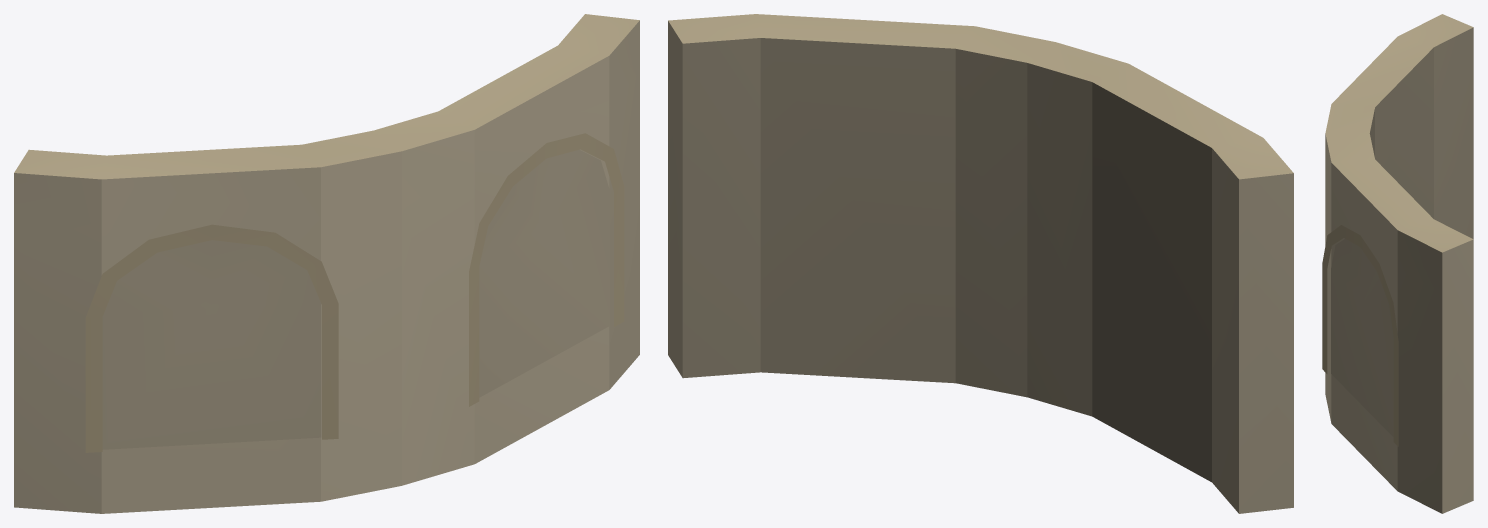
Rendered from dome.drum_solid.plaster.glb.
The picture shows the model from 3 angles, left to right: view 1: azimuth 30°, elevation 25°; view 2: azimuth 150°, elevation 25°; view 3: azimuth 270°, elevation 25°; orthographic projection. The views are drawn at different scales.
Parts seen in each view (by area): view 1: dome_drum_solid_plaster; view 2: dome_drum_solid_plaster; view 3: dome_drum_solid_plaster.
Part boxes in pixels (left/top/right/bottom): dome_drum_solid_plaster: left=14, top=14, right=639, bottom=513; dome_drum_solid_plaster: left=668, top=14, right=1293, bottom=513; dome_drum_solid_plaster: left=1322, top=14, right=1473, bottom=513.
Size of what is drawn, in the model's own units: 5.09 by 2.6 by 1.37.
